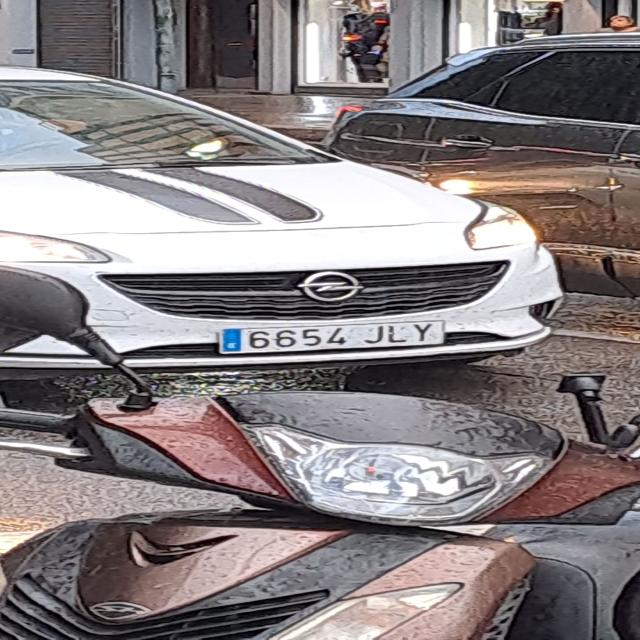license_plate-34Td: (219, 321, 444, 354)
